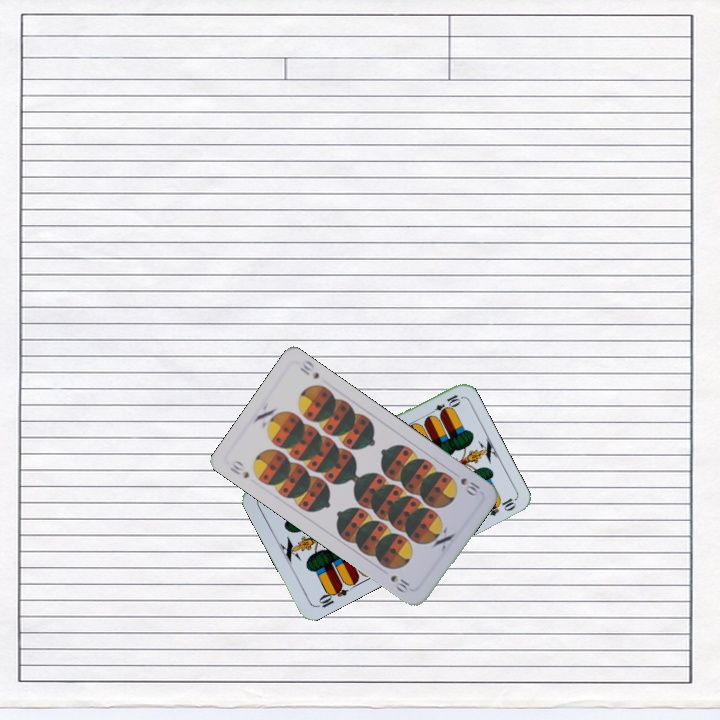E10: (424, 390, 463, 419), (313, 580, 350, 610)
S10: (456, 473, 484, 499), (226, 456, 252, 481)
